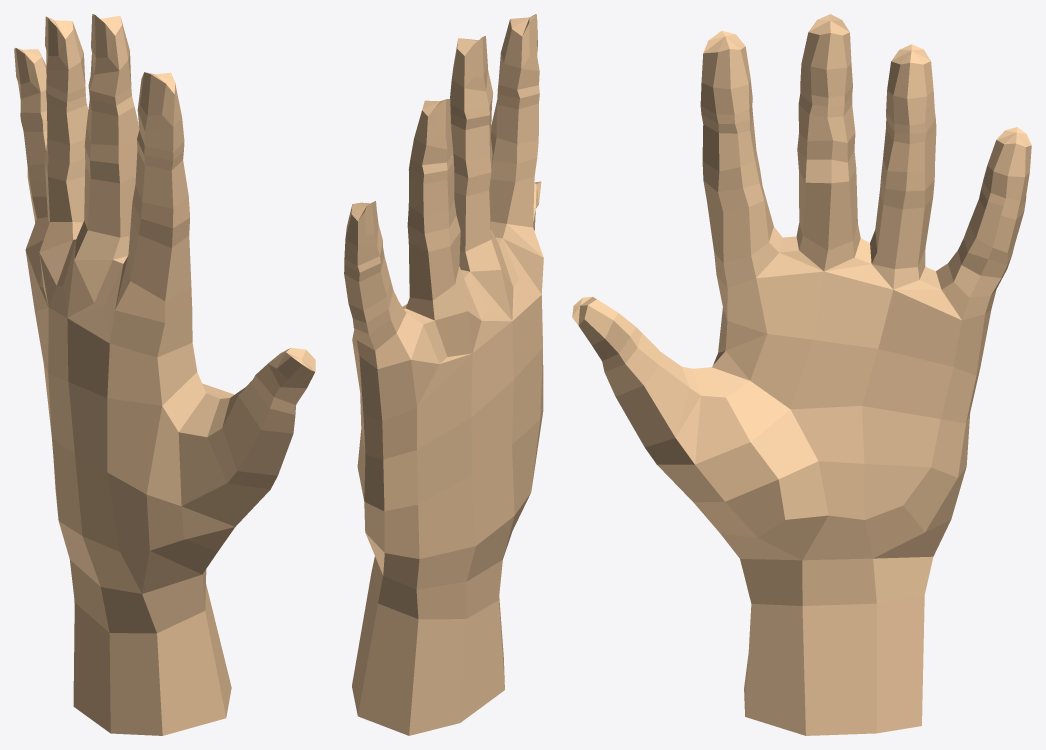
The model's file is hand2.fbx.
3 renders of one model, left to right at view 1: azimuth 30°, elevation 25°; view 2: azimuth 150°, elevation 25°; view 3: azimuth 270°, elevation 25°, orthographic. The views are drawn at different scales.
Parts seen in each view (by area): view 1: hand; view 2: hand; view 3: hand.
Part boxes in pixels (x1,y1,x2,y2): hand: (14,14,315,735); hand: (344,14,543,735); hand: (572,14,1031,735).
Size of the model in its own units: 0.2472 by 1.09 by 0.6682.
